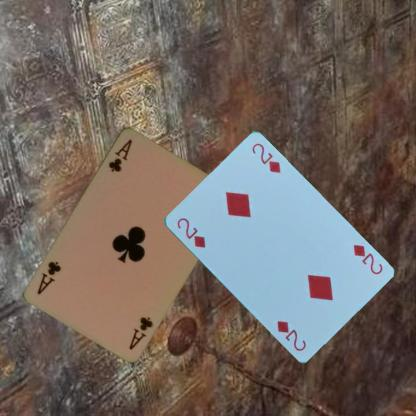2d: (350, 242, 384, 276), (174, 215, 206, 250)
Ac: (126, 313, 154, 351), (106, 136, 133, 173)
